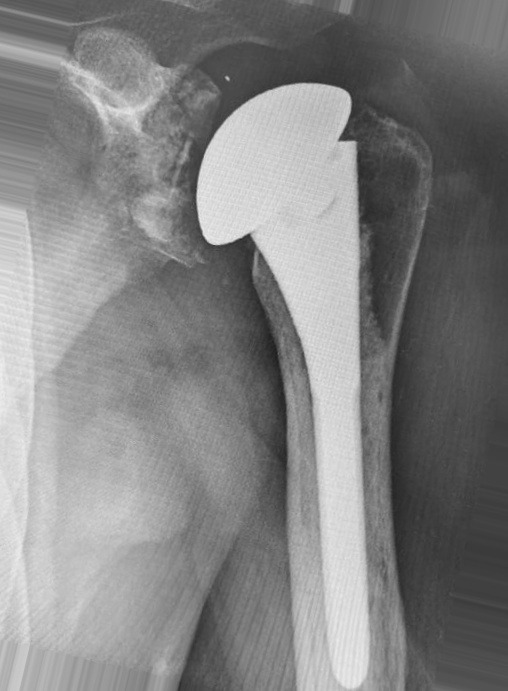Shoulder - Anotomical - Stryker: (184, 72, 387, 272)
